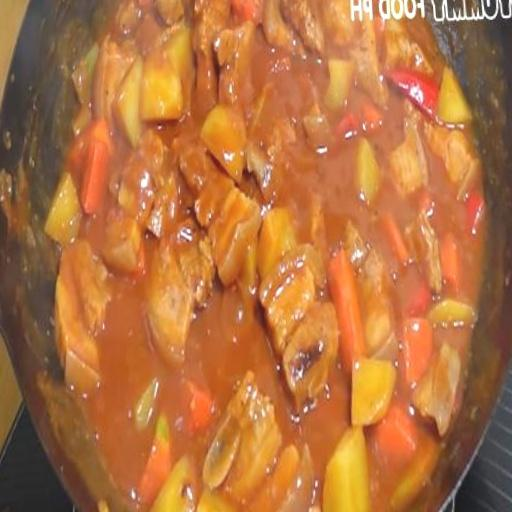pork caldereta: (47, 0, 476, 511)
